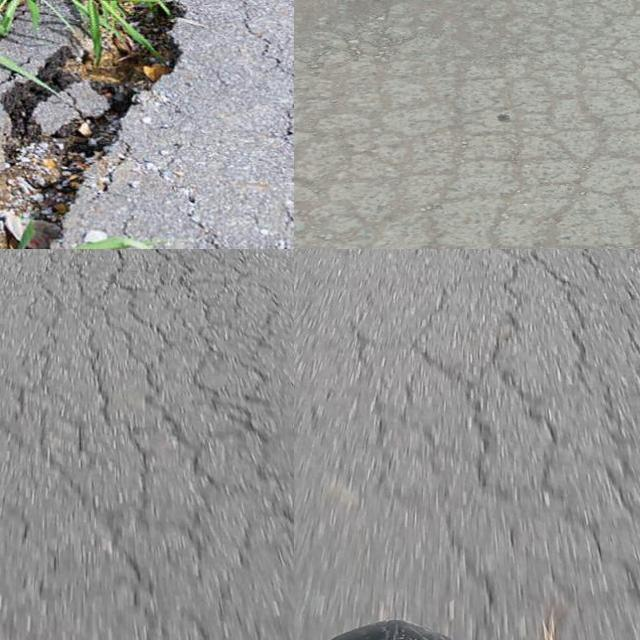Pinggir: (0, 0, 188, 249)
Retak Buaya: (40, 249, 294, 640), (436, 249, 640, 640), (294, 24, 640, 249)
